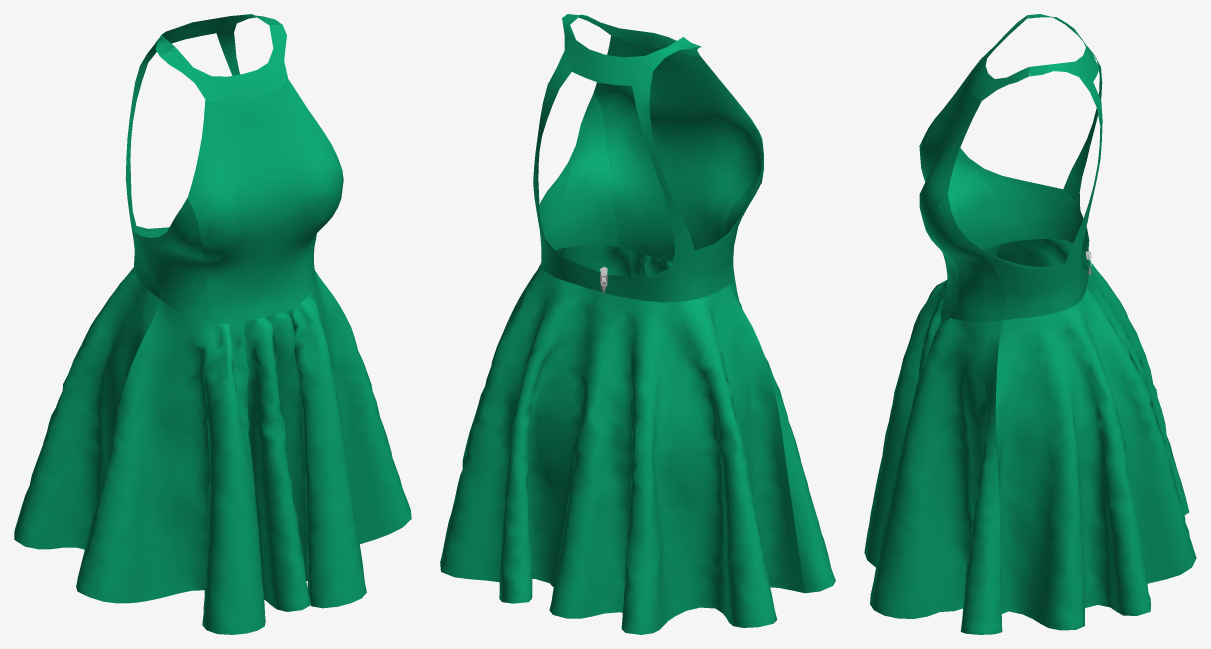
File: greendress.fbx
3 views of the same model, side by side, from view 1: azimuth 30°, elevation 25°; view 2: azimuth 150°, elevation 25°; view 3: azimuth 270°, elevation 25° (orthographic). The views are drawn at different scales.
Visible parts, largest first — view 1: small_greenDress_noInside:polySurface1; view 2: small_greenDress_noInside:polySurface1; view 3: small_greenDress_noInside:polySurface1.
Part boxes in pixels (x1,y1,x2,y2): small_greenDress_noInside:polySurface1: (14, 14, 411, 634); small_greenDress_noInside:polySurface1: (440, 14, 835, 634); small_greenDress_noInside:polySurface1: (864, 14, 1196, 634).
Bounding box in the file's own units: 4.33 × 6.6 × 3.63.
